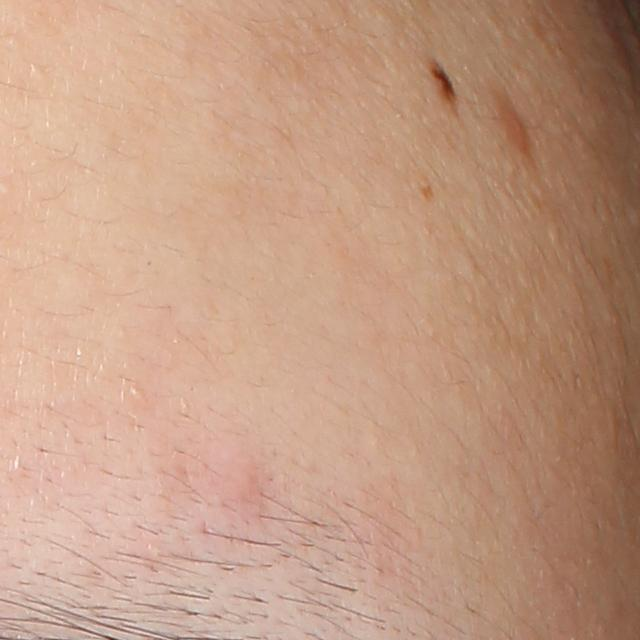nevus: (428, 54, 458, 113)
